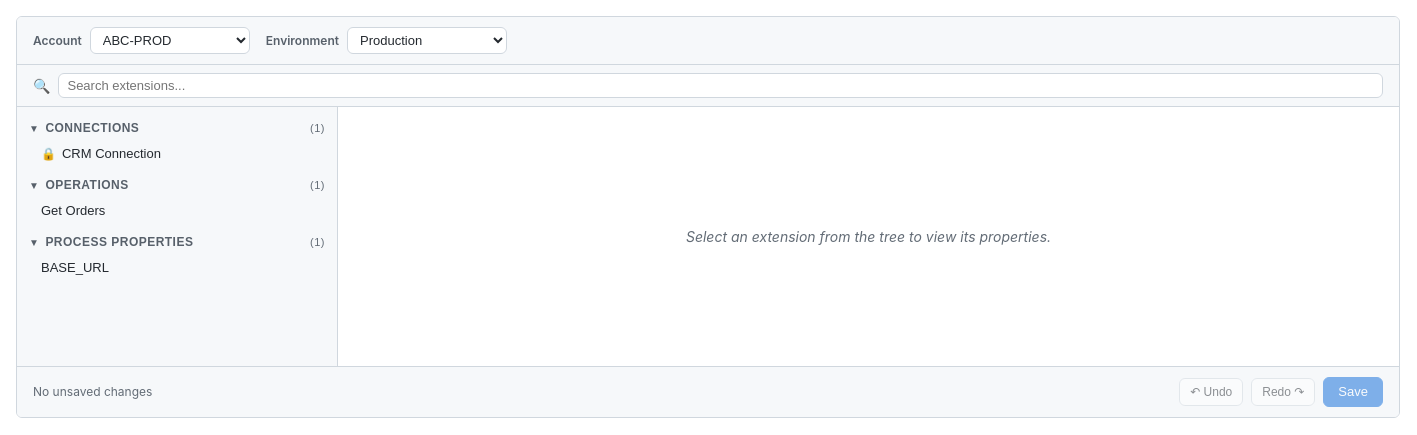
Test: ExtensionEditor › shows connection banner when a connection node is selected
Click the text "CRM Connection": (112, 154) [62, 146, 161, 161]
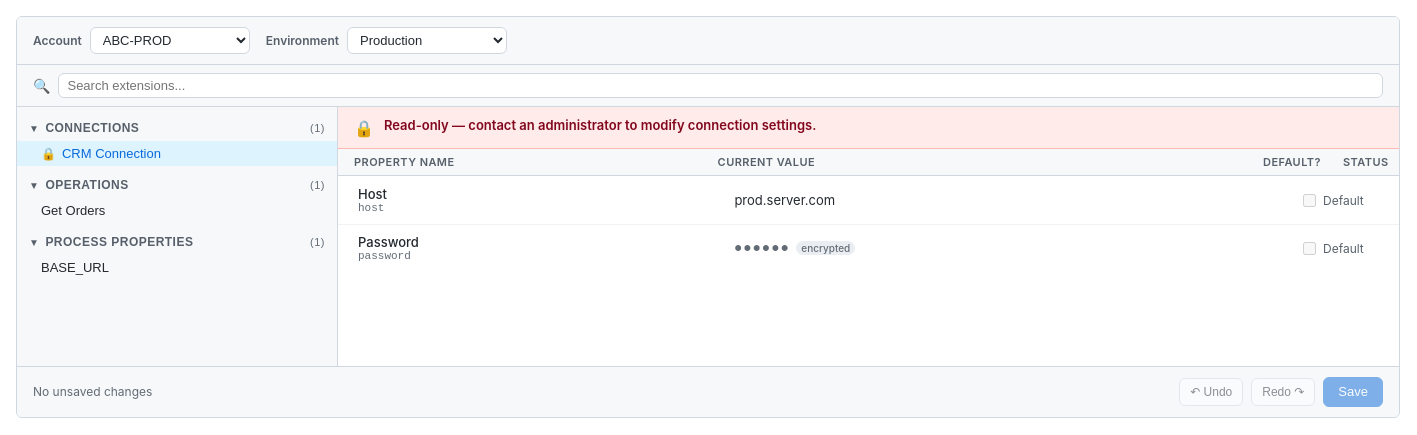
Expected: the message named "Connection extension read-only" is shown, [338, 107, 1399, 149]
